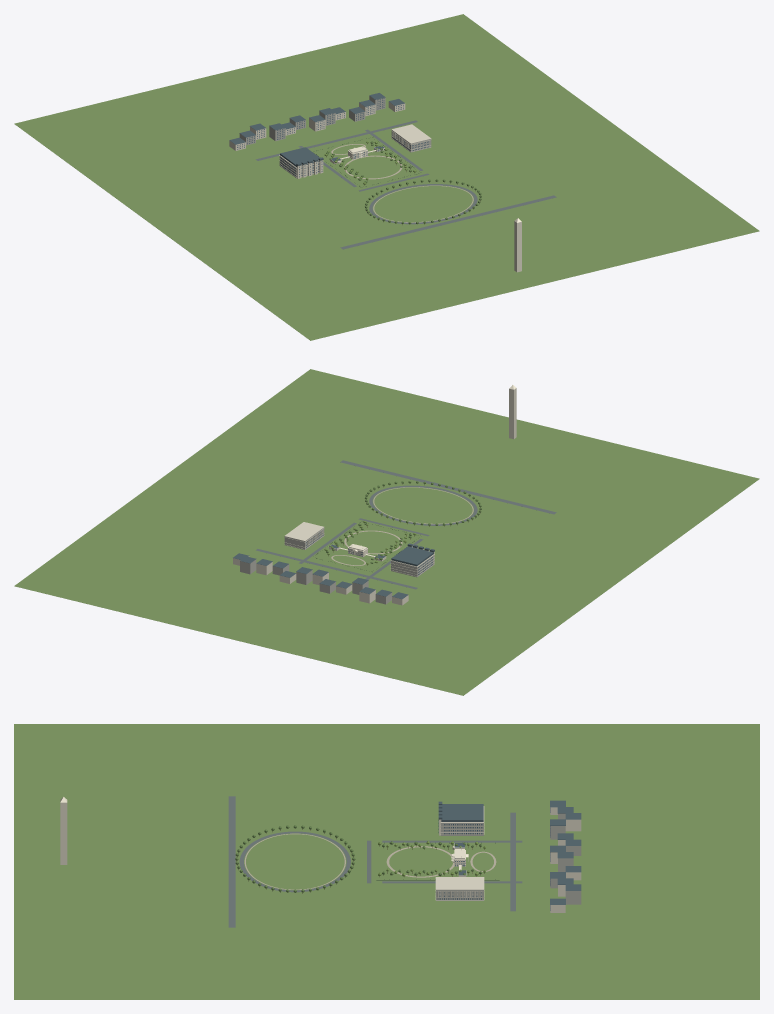
Rendered from white-house-estate.glb.
3 renders of one model, top to bottom at view 1: azimuth 30°, elevation 25°; view 2: azimuth 150°, elevation 25°; view 3: azimuth 270°, elevation 25°, orthographic. The views are drawn at different scales.
Parts seen in each view (by area): view 1: District ground, Constitution Avenue, Downtown roof, Downtown block.001, Downtown block, Treasury colonnade; view 2: District ground, Constitution Avenue, Downtown roof, Downtown block.001, Downtown block, Treasury colonnade, Mansard roof; view 3: District ground, Constitution Avenue, Downtown roof, Treasury colonnade, Downtown block.001, Mansard roof, Downtown block, Ellipse walking path, Ellipse canopy, Executive office stonework, Treasury main, Obelisk shaft.
Part boxes in pixels (x1,y1,x2,y2): District ground: (14, 14, 759, 340); Constitution Avenue: (255, 120, 556, 249); Downtown roof: (229, 93, 404, 144); Downtown block.001: (239, 96, 385, 145); Downtown block: (229, 102, 405, 150); Treasury colonnade: (391, 124, 431, 151); District ground: (14, 369, 759, 695); Constitution Avenue: (256, 460, 556, 589); Downtown roof: (233, 553, 408, 599); Downtown block.001: (240, 559, 392, 604); Downtown block: (233, 556, 408, 605); Treasury colonnade: (284, 522, 324, 549); Mansard roof: (391, 543, 434, 566); District ground: (14, 724, 759, 999); Constitution Avenue: (228, 796, 522, 927); Downtown roof: (550, 800, 581, 904); Treasury colonnade: (435, 877, 484, 900); Downtown block.001: (550, 813, 581, 904); Mansard roof: (438, 801, 483, 821); Downtown block: (550, 807, 581, 912); Ellipse walking path: (244, 833, 496, 889); Ellipse canopy: (235, 825, 355, 892); Executive office stonework: (441, 823, 483, 835); Treasury main: (435, 890, 483, 900); Obelisk shaft: (60, 802, 67, 864).
Bounding box in the file's own units: 2100 × 237 × 2400.
